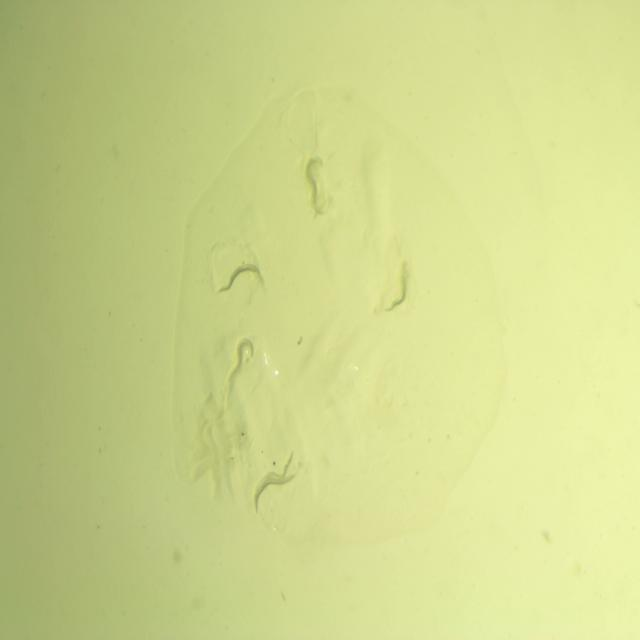worm: (250, 467, 296, 516), (252, 449, 296, 499), (216, 255, 266, 297), (301, 152, 330, 220), (384, 256, 412, 316), (228, 333, 258, 382)
